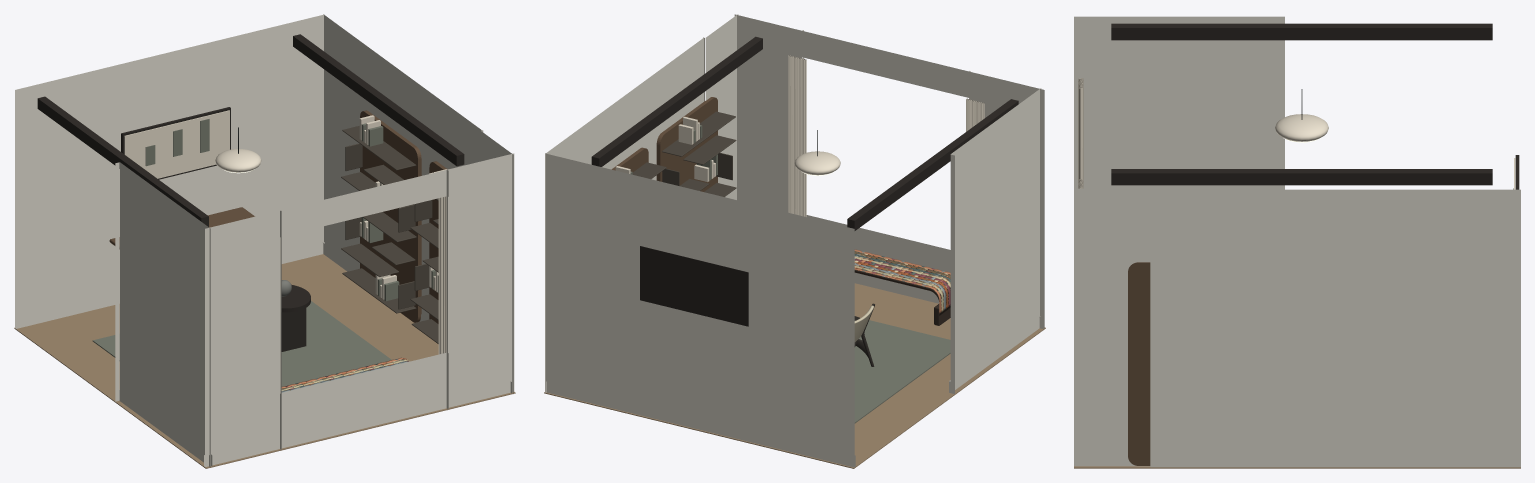
File: formal-2.glb
3 views of the same model, side by side, from view 1: azimuth 30°, elevation 25°; view 2: azimuth 150°, elevation 25°; view 3: azimuth 270°, elevation 25° (orthographic). The views are drawn at different scales.
Parts seen in each view (by area): view 1: DESIGN | formal removable wall finish, DESIGN | formal floor finish, DESIGN | Required Blabla bookcase 2, DESIGN | Formal ground, DESIGN | Textile artwork, DESIGN | Formal timber boundary.001, DESIGN | Required Blabla bookcase 1, DESIGN | Formal timber boundary, DESIGN | Formal soft window edge.001, DESIGN | Object examination table trestle, DESIGN | Study paper light shade, DESIGN | Required Brera anniversary window bench (+3 smaller); view 2: DESIGN | formal removable wall finish, DESIGN | formal floor finish, DESIGN | Quiet artwork frame, DESIGN | Formal ground, DESIGN | Required Blabla bookcase 1, DESIGN | Formal timber boundary.001, DESIGN | Formal soft window edge.001, DESIGN | Required Brera anniversary window bench, DESIGN | Formal timber boundary, DESIGN | Study paper light shade, DESIGN | Required Blabla bookcase 2, DESIGN | Archive reading chair; view 3: DESIGN | formal removable wall finish, DESIGN | Formal timber boundary, DESIGN | Formal timber boundary.001, DESIGN | Required Blabla bookcase 1, DESIGN | Study paper light shade, DESIGN | formal floor finish, DESIGN | Formal soft window edge.
Boxes of the visible parts, bbox=[...] form: DESIGN | formal removable wall finish: bbox=[15, 14, 514, 466]; DESIGN | formal floor finish: bbox=[14, 254, 515, 468]; DESIGN | Required Blabla bookcase 2: bbox=[341, 110, 421, 322]; DESIGN | Formal ground: bbox=[92, 301, 391, 386]; DESIGN | Textile artwork: bbox=[124, 110, 229, 178]; DESIGN | Formal timber boundary.001: bbox=[293, 34, 464, 166]; DESIGN | Required Blabla bookcase 1: bbox=[410, 161, 447, 343]; DESIGN | Formal timber boundary: bbox=[37, 96, 208, 226]; DESIGN | Formal soft window edge.001: bbox=[438, 196, 446, 354]; DESIGN | Object examination table trestle: bbox=[281, 308, 306, 351]; DESIGN | Study paper light shade: bbox=[215, 149, 261, 172]; DESIGN | Required Brera anniversary window bench: bbox=[281, 357, 409, 392]; DESIGN | formal removable wall finish: bbox=[545, 14, 1044, 467]; DESIGN | formal floor finish: bbox=[544, 283, 1045, 468]; DESIGN | Quiet artwork frame: bbox=[640, 246, 748, 326]; DESIGN | Formal ground: bbox=[854, 320, 950, 423]; DESIGN | Required Blabla bookcase 1: bbox=[656, 97, 736, 196]; DESIGN | Formal timber boundary.001: bbox=[591, 36, 762, 166]; DESIGN | Formal soft window edge.001: bbox=[788, 55, 806, 216]; DESIGN | Required Brera anniversary window bench: bbox=[854, 249, 950, 325]; DESIGN | Formal timber boundary: bbox=[847, 99, 1018, 230]; DESIGN | Study paper light shade: bbox=[794, 151, 840, 175]; DESIGN | Required Blabla bookcase 2: bbox=[611, 147, 666, 178]; DESIGN | Archive reading chair: bbox=[854, 303, 874, 366]; DESIGN | formal removable wall finish: bbox=[1074, 16, 1520, 467]; DESIGN | Formal timber boundary: bbox=[1111, 23, 1492, 40]; DESIGN | Formal timber boundary.001: bbox=[1111, 169, 1492, 185]; DESIGN | Required Blabla bookcase 1: bbox=[1128, 262, 1150, 465]; DESIGN | Study paper light shade: bbox=[1275, 114, 1328, 141]; DESIGN | formal floor finish: bbox=[1074, 466, 1520, 468]; DESIGN | Formal soft window edge: bbox=[1078, 78, 1083, 181].
Bounding box in the file's own units: 3.71 × 2.74 × 3.98.
